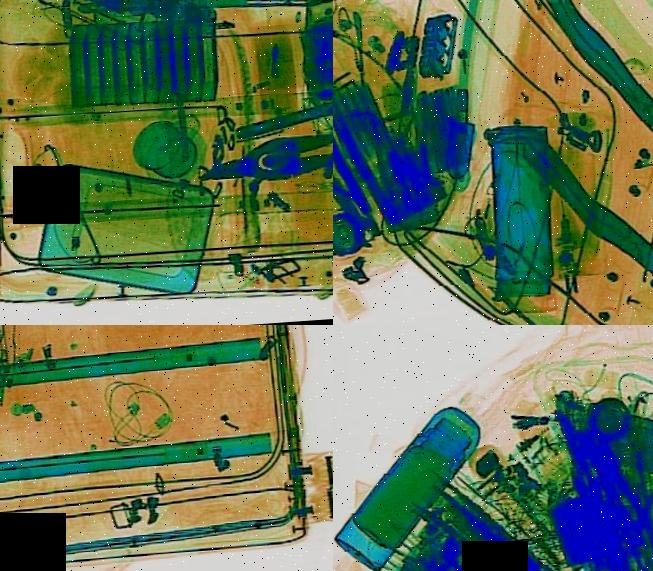Pliers: (333, 131, 385, 258), (622, 410, 653, 552)
Wrench: (188, 123, 333, 193), (333, 115, 386, 247)
